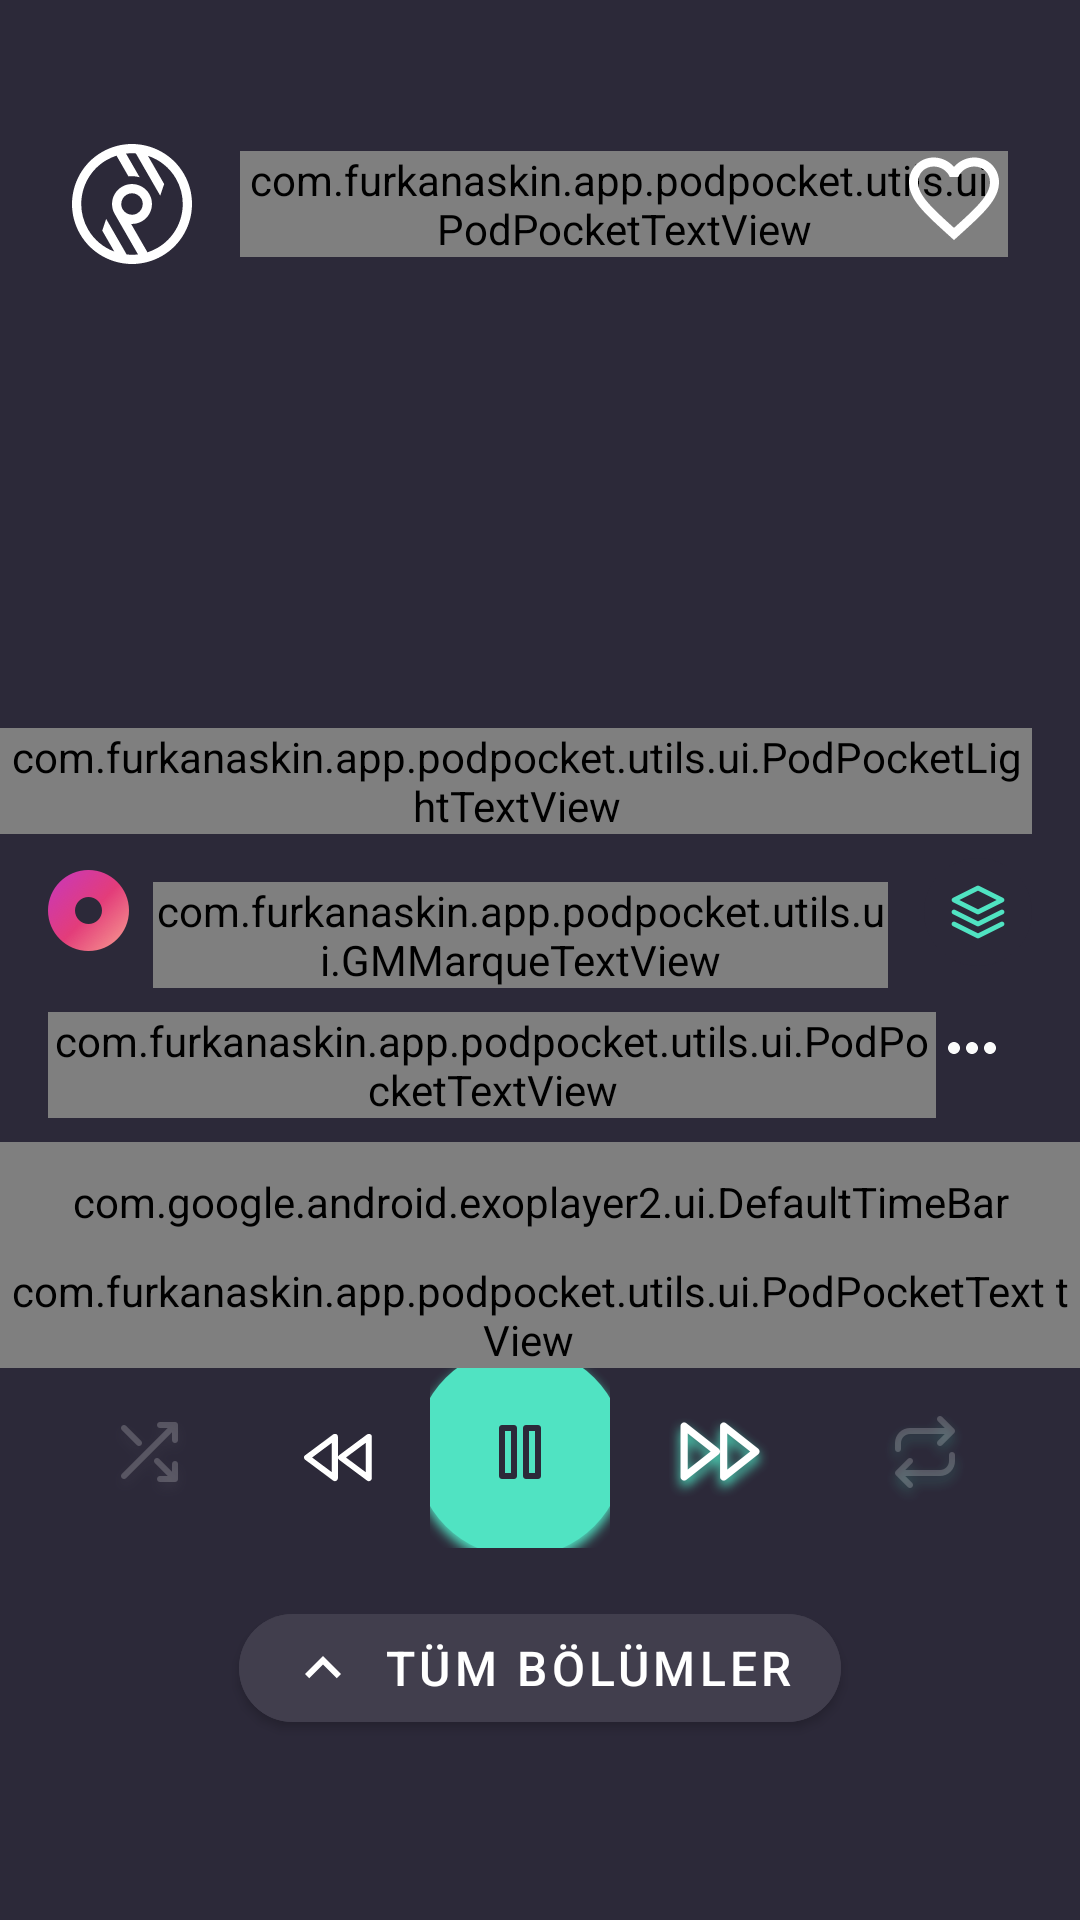

Point at icon controls on the screen. Image size 1080px×1920px, points as [x,y].
favorite: [954,198]
more: [972,1048]
next: [718,1456]
prev: [338,1458]
repeat: [925,1452]
shuffle: [149,1452]
track disk: [88,910]
track list: [978,912]
